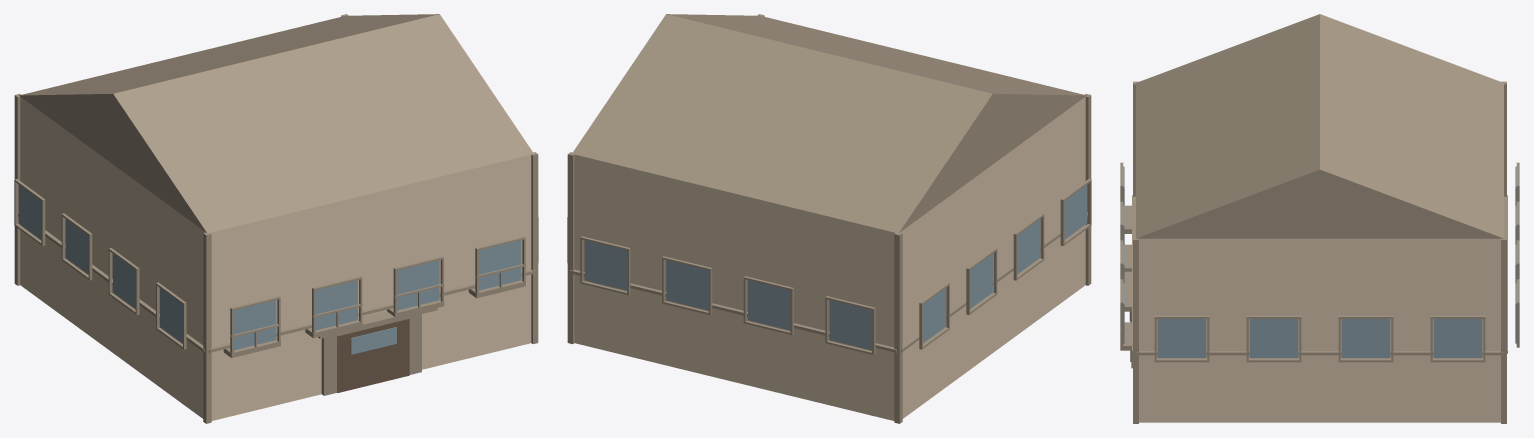
File: lot_2x2_gable.glb
3 renders of one model, left to right at view 1: azimuth 30°, elevation 25°; view 2: azimuth 150°, elevation 25°; view 3: azimuth 270°, elevation 25°, orthographic. The views are drawn at different scales.
Visible parts, largest first — view 1: lot_2x2_gable; view 2: lot_2x2_gable; view 3: lot_2x2_gable.
Boxes of the visible parts, x1,y1,x2,y2 form: lot_2x2_gable: (14,14,538,423); lot_2x2_gable: (567,14,1091,423); lot_2x2_gable: (1120,14,1519,423).
Bounding box in the file's own units: 15.74 × 11 × 15.74.
